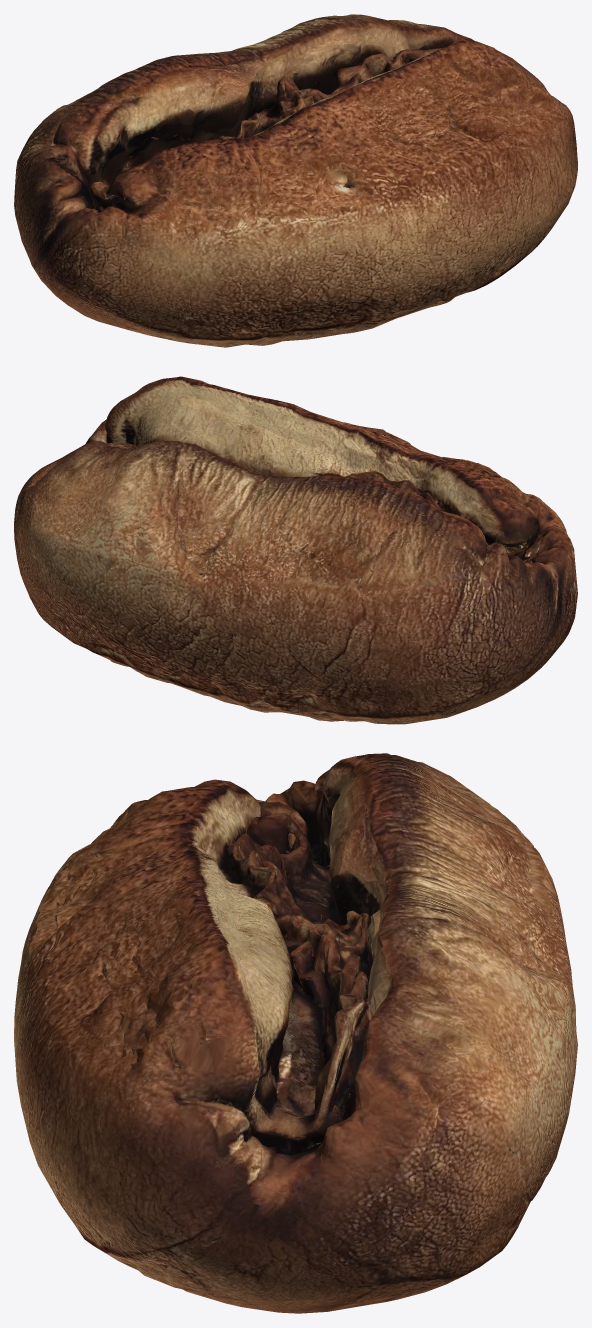
File: bean.glb
3 renders of one model, top to bottom at view 1: azimuth 30°, elevation 25°; view 2: azimuth 150°, elevation 25°; view 3: azimuth 270°, elevation 25°, orthographic. The views are drawn at different scales.
Size of the model in its own units: 1.9 by 0.8962 by 1.22.
1 material, 1 textured.
